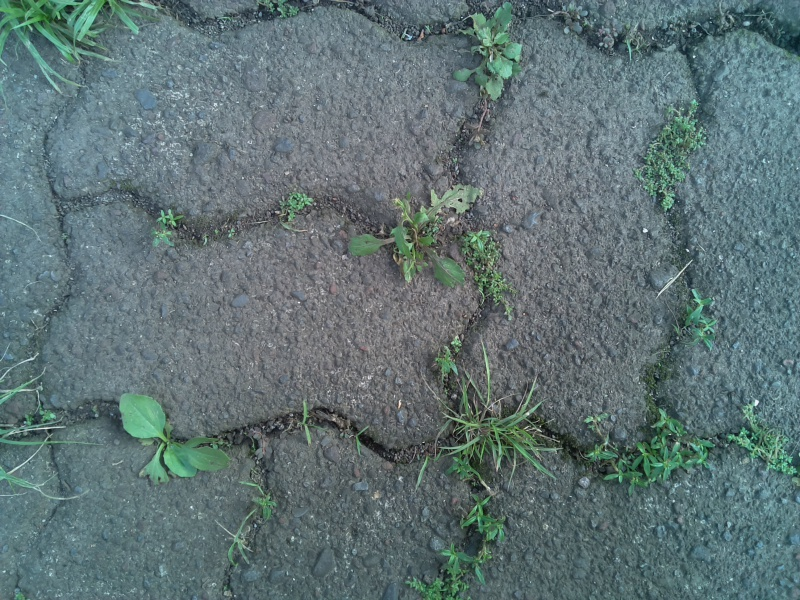Weed: (422, 377, 561, 480), (340, 182, 473, 289), (109, 386, 234, 486), (581, 399, 714, 489), (634, 103, 718, 216), (458, 4, 538, 112), (731, 397, 800, 481), (397, 545, 491, 600), (463, 223, 520, 312), (454, 487, 520, 548), (666, 286, 723, 355), (139, 203, 190, 254), (220, 516, 263, 565), (271, 187, 317, 232), (243, 481, 286, 524), (288, 400, 324, 449), (430, 334, 466, 380), (341, 419, 372, 460), (217, 222, 243, 245)
